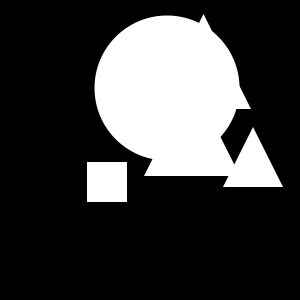circle: (87, 162, 127, 202)
rectangle: (94, 16, 240, 160)
triangle: (144, 80, 240, 176), (156, 14, 251, 109), (223, 127, 283, 187)
